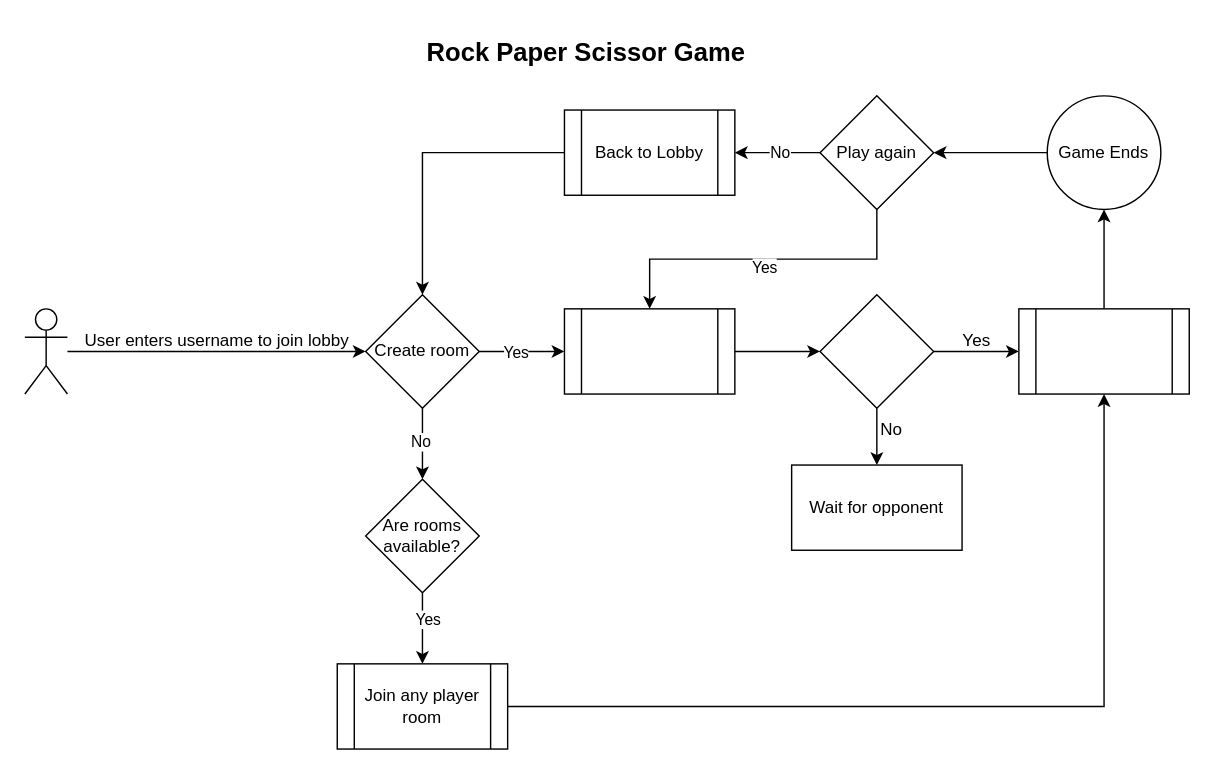
The diagram is 1214 pixels wide and 774 high, and some of its shapes have lost their labels. Each missing label, with the centre of its shape:
Actor: point (45, 350)
Game Begins: point (1103, 350)
Opponent Joined: point (876, 350)
Room created and waiting for opponent to join: point (649, 350)
